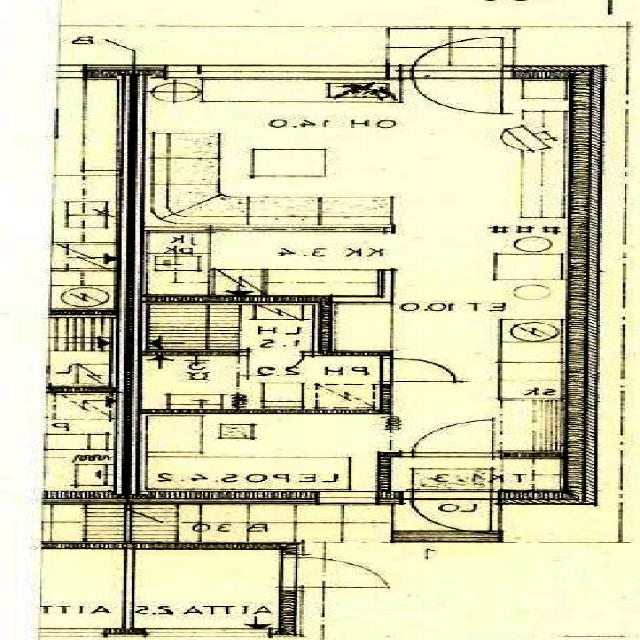door: (413, 65, 502, 114), (413, 31, 502, 78), (411, 490, 492, 535), (280, 556, 381, 588), (413, 421, 493, 457), (378, 358, 452, 381), (248, 349, 303, 376)
